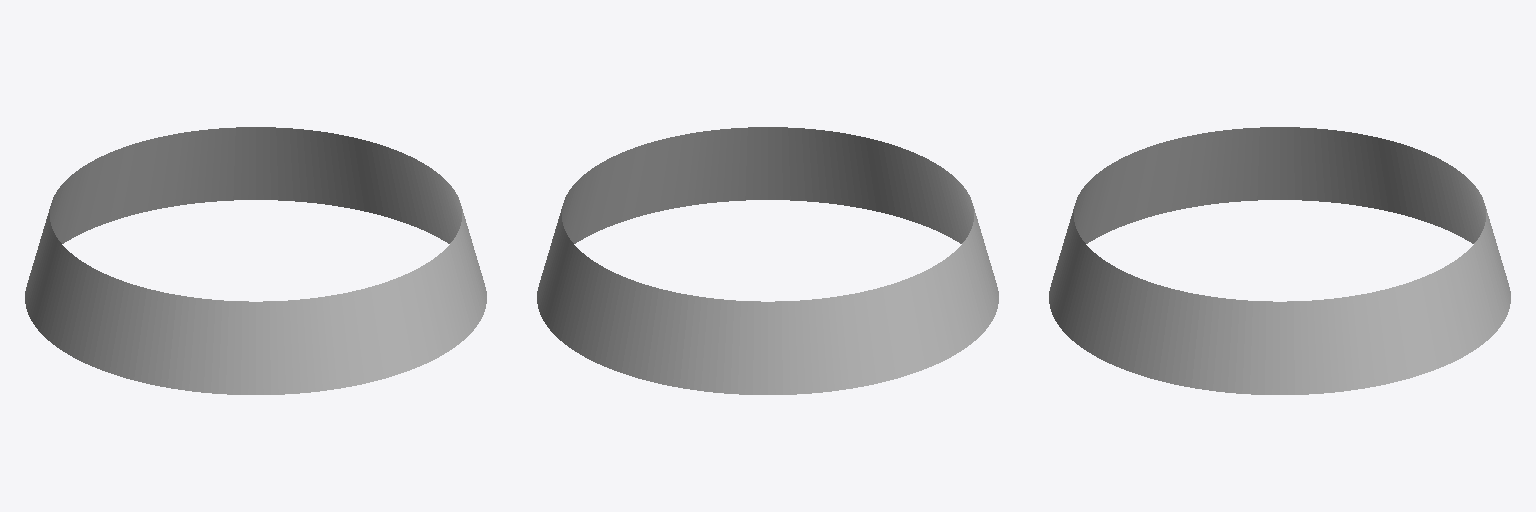
Rendered from buildingWindow.obj.
The picture shows the model from 3 angles: view 1: azimuth 30°, elevation 25°; view 2: azimuth 150°, elevation 25°; view 3: azimuth 270°, elevation 25°; orthographic projection.
Parts seen in each view (by area): view 1: Torus.000_Torus.002; view 2: Torus.000_Torus.002; view 3: Torus.000_Torus.002.
Part boxes in pixels (x1,y1,x2,y2): Torus.000_Torus.002: (25,127,486,394); Torus.000_Torus.002: (537,127,998,394); Torus.000_Torus.002: (1049,127,1510,394).
Bounding box in the file's own units: 102 × 20.33 × 102.